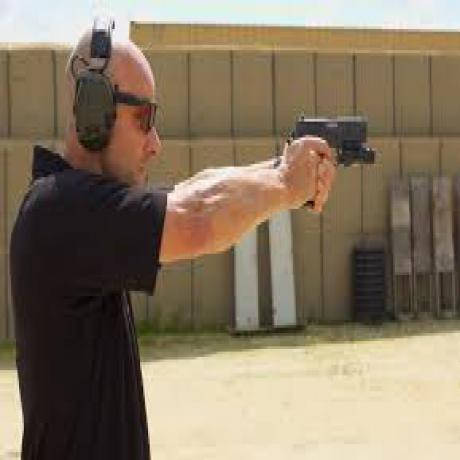Guns: (291, 106, 373, 222)
